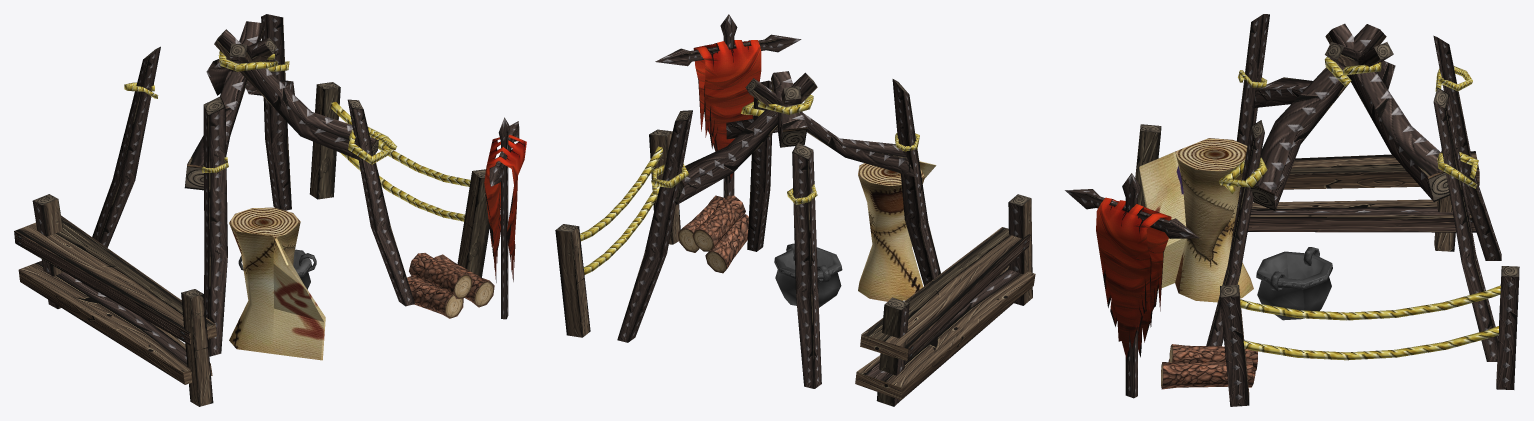
The model's file is Orc_Construction_Farm.FBX.
3 views of the same model, side by side, from view 1: azimuth 30°, elevation 25°; view 2: azimuth 150°, elevation 25°; view 3: azimuth 270°, elevation 25° (orthographic). The views are drawn at different scales.
Visible parts, largest first — view 1: wood_table012 (×2), Cylinder001, rod002, rod_005, beam005, trunk013, rod003, rod_004, Plane021, large_wood009, large_wood013, beam003 (+10 smaller); view 2: wood_table012 (×2), Cylinder001, rod_005, Plane021, rod_004, rod002, trunk013, beam, beam003, large_wood014, rod003, Cauldron002 (+10 smaller); view 3: Cylinder001, wood_table012 (×2), Plane021, beam005, beam, rod_004, Cauldron002, trunk013, rod_005, rod003, large_wood013, cross009 (+12 smaller).
Part boxes in pixels (left/top/right/bottom): wood_table012 (×2): left=14, top=215, right=216, bottom=384; Cylinder001: left=229, top=207, right=325, bottom=360; rod002: left=203, top=96, right=227, bottom=356; rod_005: left=92, top=46, right=160, bottom=247; beam005: left=214, top=29, right=378, bottom=159; trunk013: left=407, top=253, right=494, bottom=318; rod003: left=347, top=99, right=414, bottom=306; rod_004: left=261, top=14, right=291, bottom=210; Plane021: left=484, top=134, right=526, bottom=282; large_wood009: left=181, top=289, right=213, bottom=406; large_wood013: left=457, top=169, right=489, bottom=277; beam003: left=184, top=21, right=264, bottom=190; wood_table012 (×2): left=855, top=227, right=1035, bottom=400; Cylinder001: left=858, top=161, right=936, bottom=301; rod_005: left=792, top=142, right=821, bottom=388; Plane021: left=693, top=40, right=761, bottom=183; rod_004: left=617, top=110, right=692, bottom=342; rod002: left=892, top=79, right=940, bottom=286; trunk013: left=677, top=195, right=748, bottom=273; beam: left=675, top=72, right=817, bottom=204; beam003: left=745, top=78, right=916, bottom=177; large_wood014: left=555, top=224, right=590, bottom=337; rod003: left=747, top=80, right=772, bottom=251; Cauldron002: left=774, top=243, right=842, bottom=307; Cylinder001: left=1139, top=138, right=1253, bottom=302; wood_table012 (×2): left=1247, top=151, right=1479, bottom=232; Plane021: left=1096, top=197, right=1171, bottom=364; beam005: left=1250, top=24, right=1386, bottom=210; beam: left=1325, top=23, right=1449, bottom=201; rod_004: left=1433, top=87, right=1498, bottom=361; Cauldron002: left=1256, top=247, right=1332, bottom=320; trunk013: left=1161, top=344, right=1257, bottom=389; rod_005: left=1433, top=35, right=1501, bottom=260; rod003: left=1206, top=120, right=1264, bottom=346; large_wood013: left=1220, top=285, right=1249, bottom=406; cross009: left=1065, top=173, right=1199, bottom=398.
Size of the model in its own units: 2695 by 1785 by 2501.
